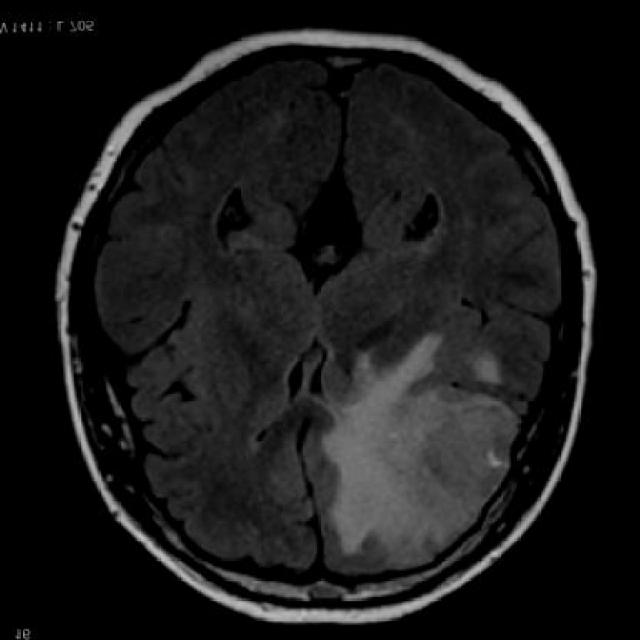Brain-Tumor: (304, 320, 521, 586)
